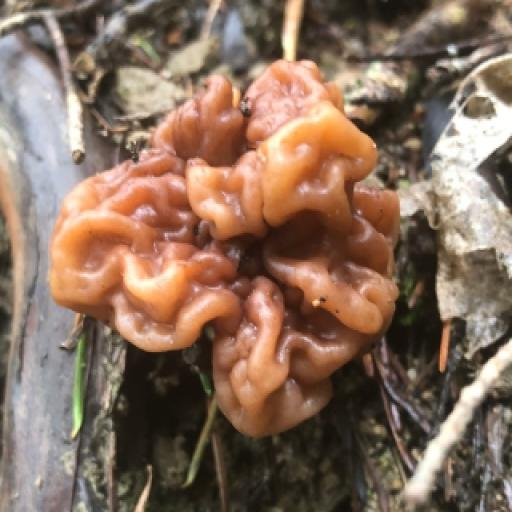mushroom: (11, 0, 488, 476)
